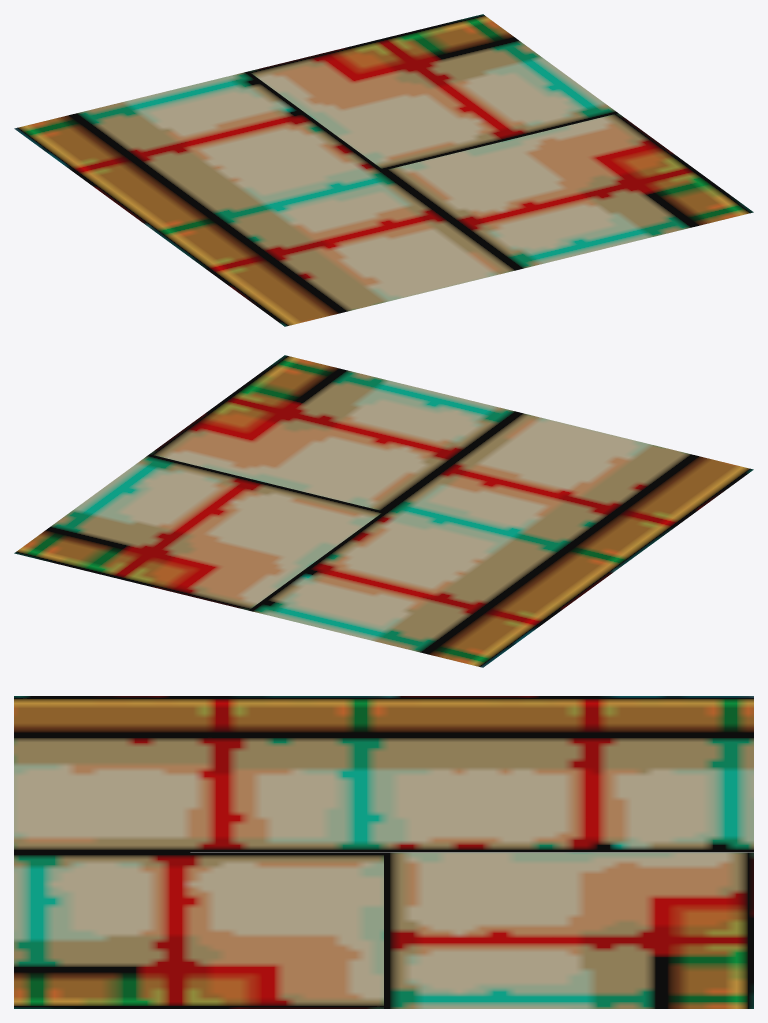
The model's file is arch_cathedral_floorEdge_1line_2vert.FBX.
3 views of the same model, one above another, from view 1: azimuth 30°, elevation 25°; view 2: azimuth 150°, elevation 25°; view 3: azimuth 270°, elevation 25° (orthographic). The views are drawn at different scales.
Parts seen in each view (by area): view 1: arch_cathedral_floorEdge_1line_2vert; view 2: arch_cathedral_floorEdge_1line_2vert; view 3: arch_cathedral_floorEdge_1line_2vert.
Part boxes in pixels (x1,y1,x2,y2): arch_cathedral_floorEdge_1line_2vert: (14, 14, 753, 326); arch_cathedral_floorEdge_1line_2vert: (14, 355, 753, 667); arch_cathedral_floorEdge_1line_2vert: (14, 696, 753, 1008).
Bounding box in the file's own units: 2 × 2.38e-07 × 2.
Materials: 1 (1 with a texture image).
